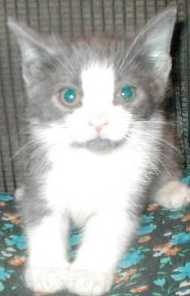Cat: (7, 7, 184, 287)
